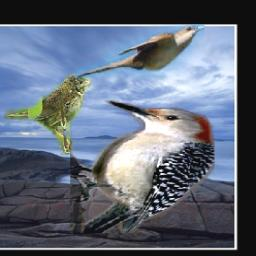Cuckoo: (76, 25, 205, 79)
Sparrow: (4, 74, 91, 155)
Woodpecker: (70, 100, 215, 233)
